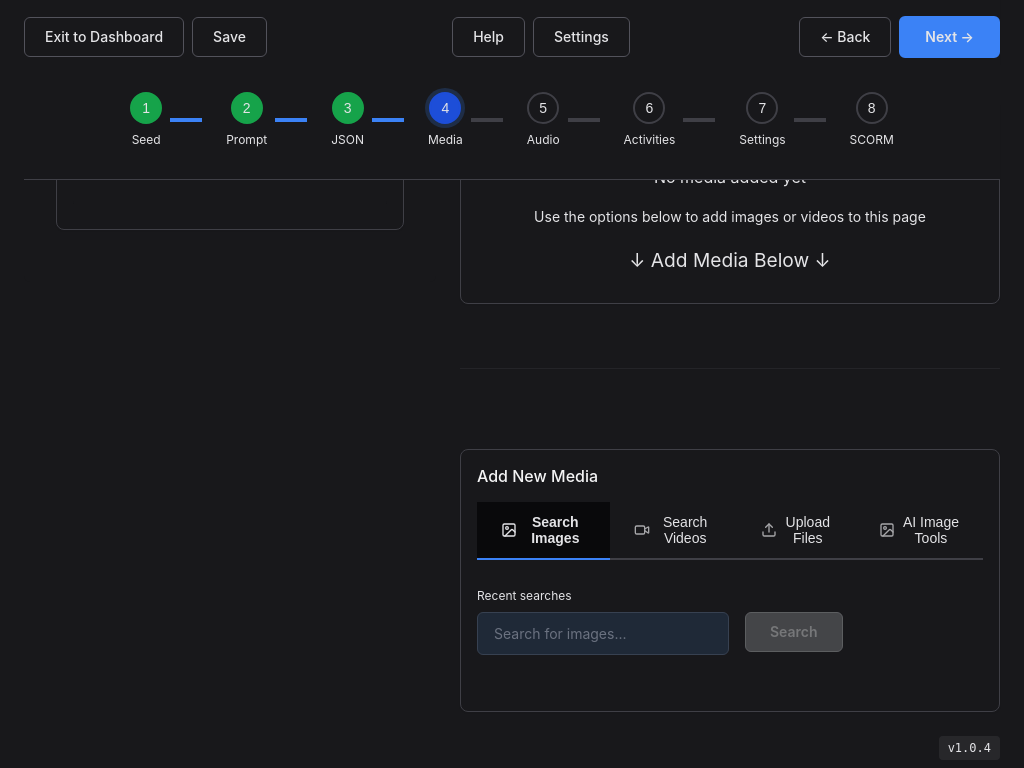
Test case: MediaEnhancementWizard - Refined Error Handling › should show error dialog for rate limit (429) and NOT fall back to mock data
(page scrolled)
Expected: the heading "Topic 1" is shown, [113,92,160,110]
Perform search that hits rate limit
In the field with placeholder "Search for images...": (603, 634) [477,612,729,655], type "test search"
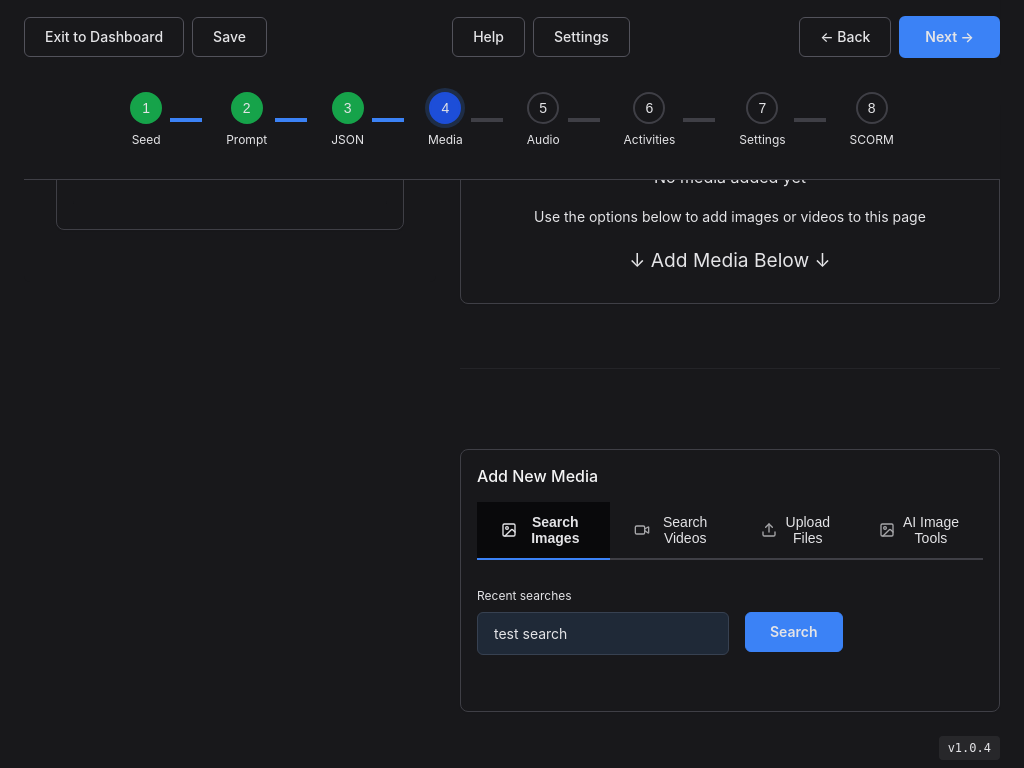
Click the button with aria-label "search images": (794, 632) [745,612,842,652]
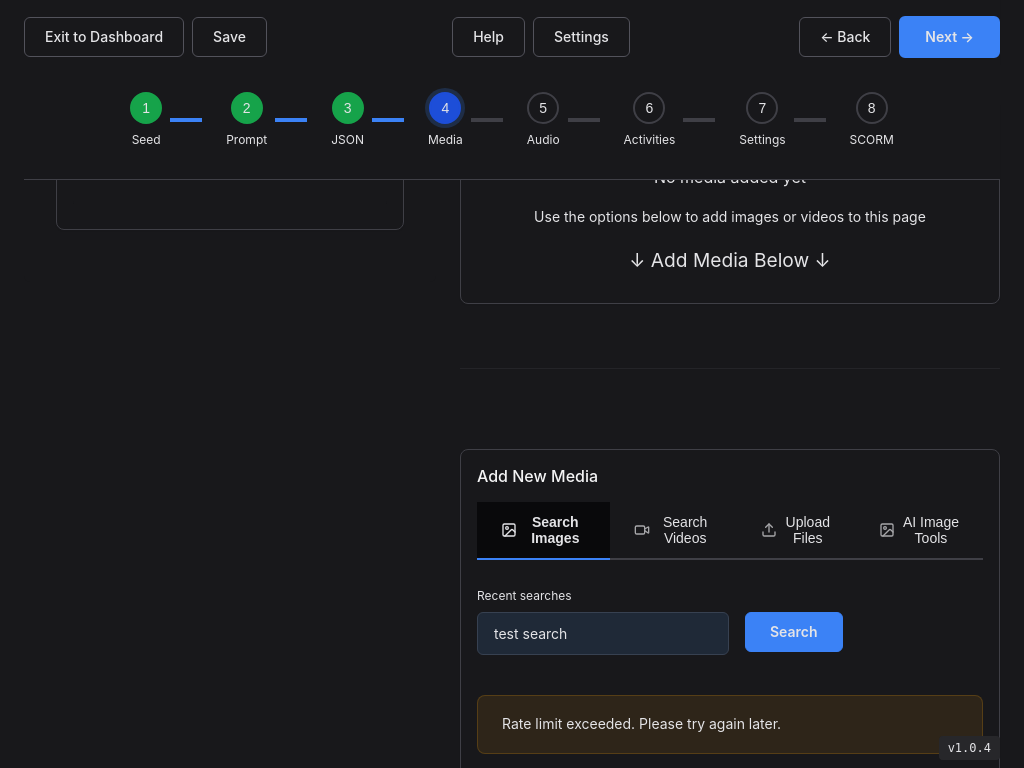
Now the text "Rate limit exceeded. Please try again later." is shown, box [477,695,983,754]
